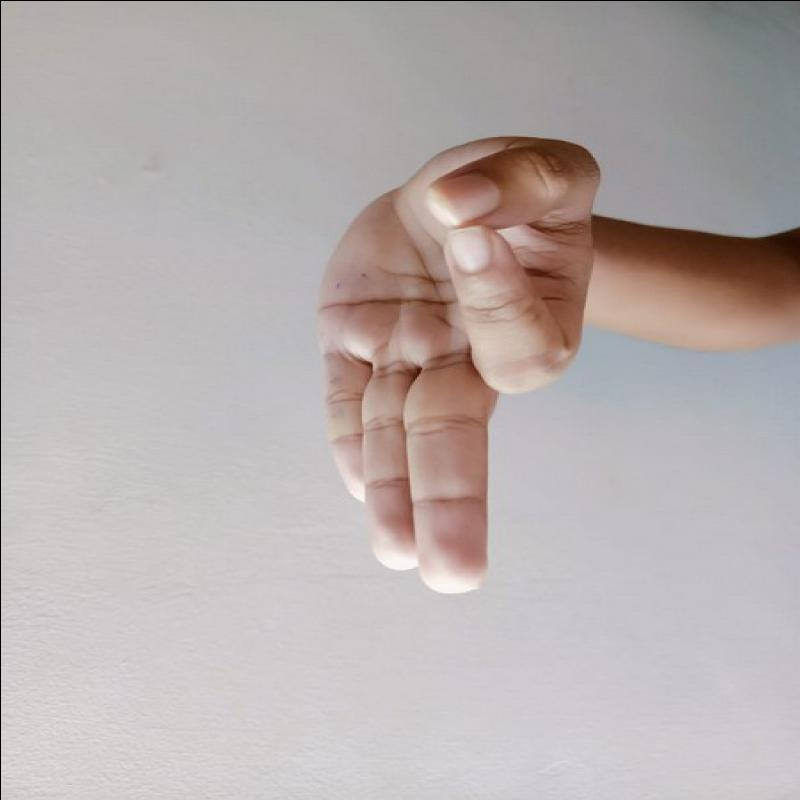Mudraakhyam: (305, 122, 611, 606)
